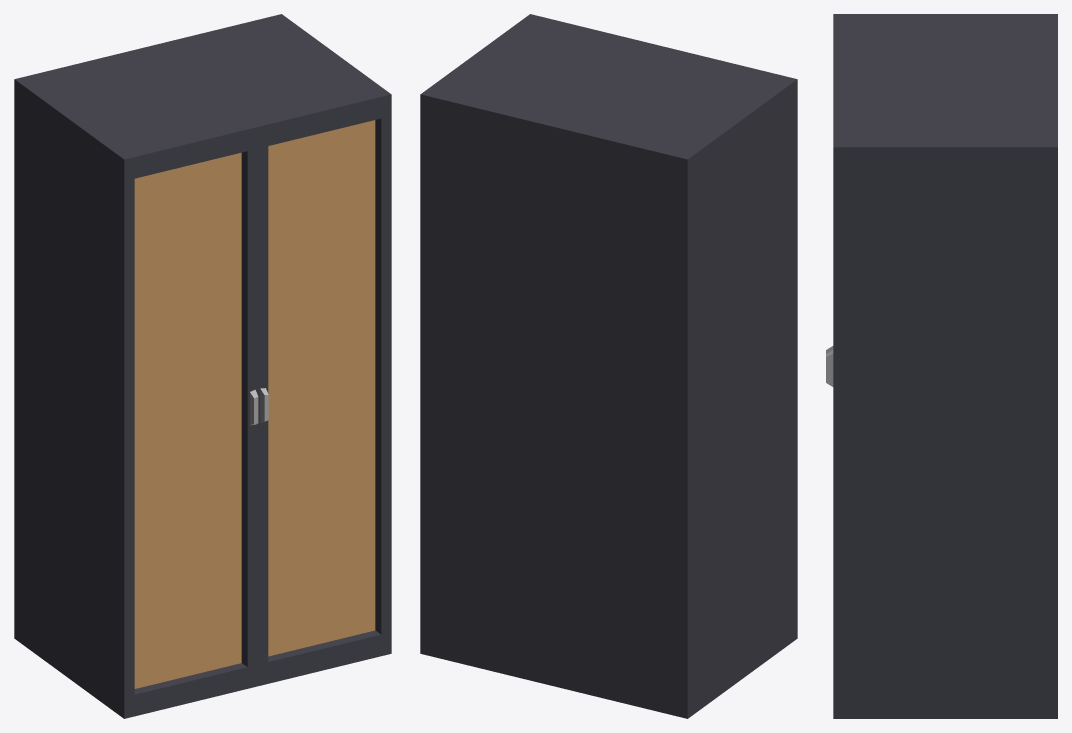
Rendered from Office_Closet.glb.
3 renders of one model, left to right at view 1: azimuth 30°, elevation 25°; view 2: azimuth 150°, elevation 25°; view 3: azimuth 270°, elevation 25°, orthographic. The views are drawn at different scales.
Visible parts, largest first — view 1: Cube; view 2: Cube; view 3: Cube.
Part boxes in pixels (bbox=[...]): Cube: bbox=[14, 14, 391, 718]; Cube: bbox=[420, 14, 797, 718]; Cube: bbox=[826, 14, 1057, 718].
Bounding box in the file's own units: 1 × 2 × 0.7345.
